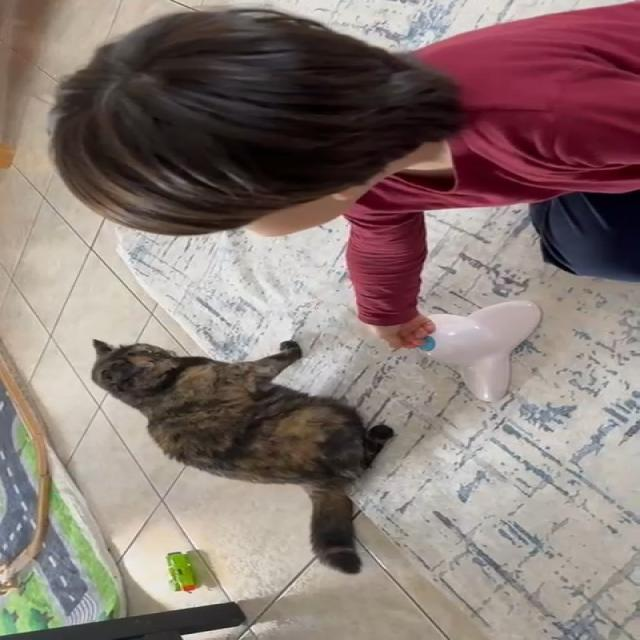authorized: (89, 338, 395, 574)
